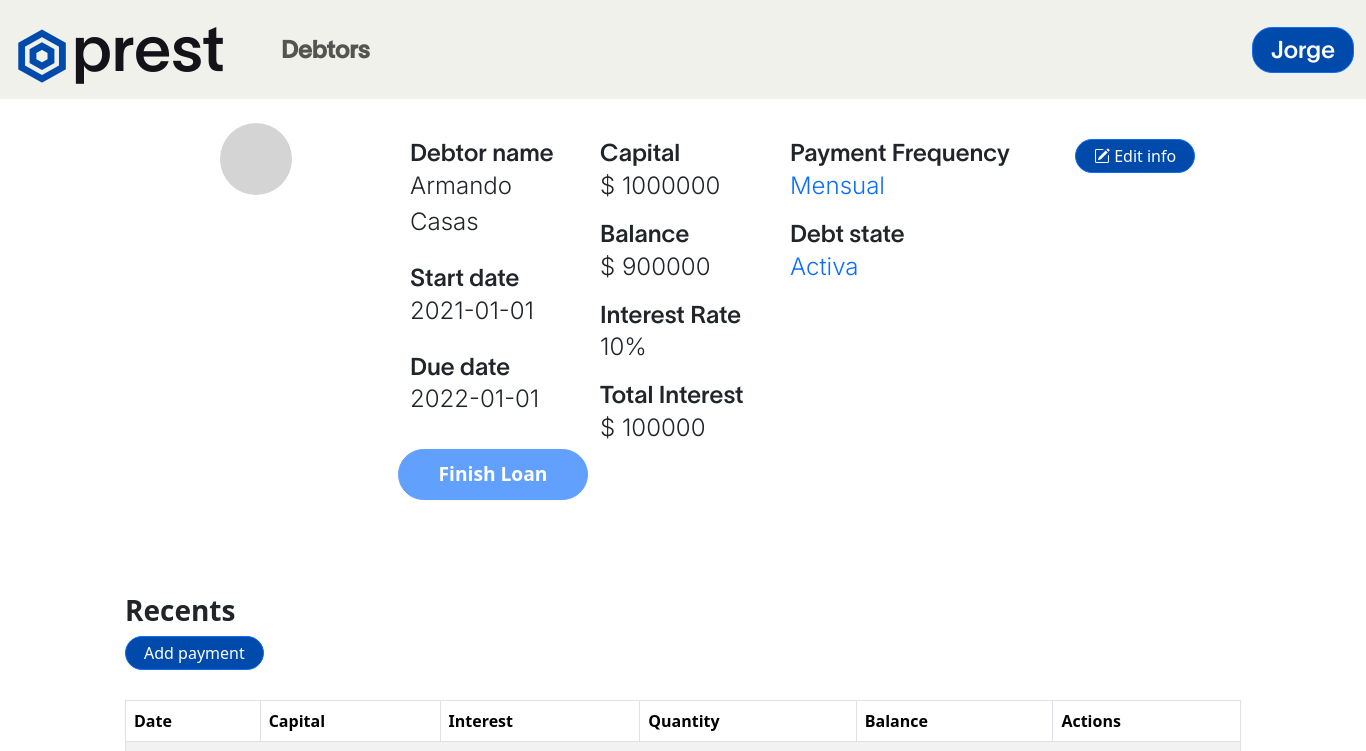
DeudorApp › Abrir y cerrar el modal para Editar Informacion
The image size is (1366, 751).
Click the button "Edit info": (1135, 156) [1075,139,1195,173]
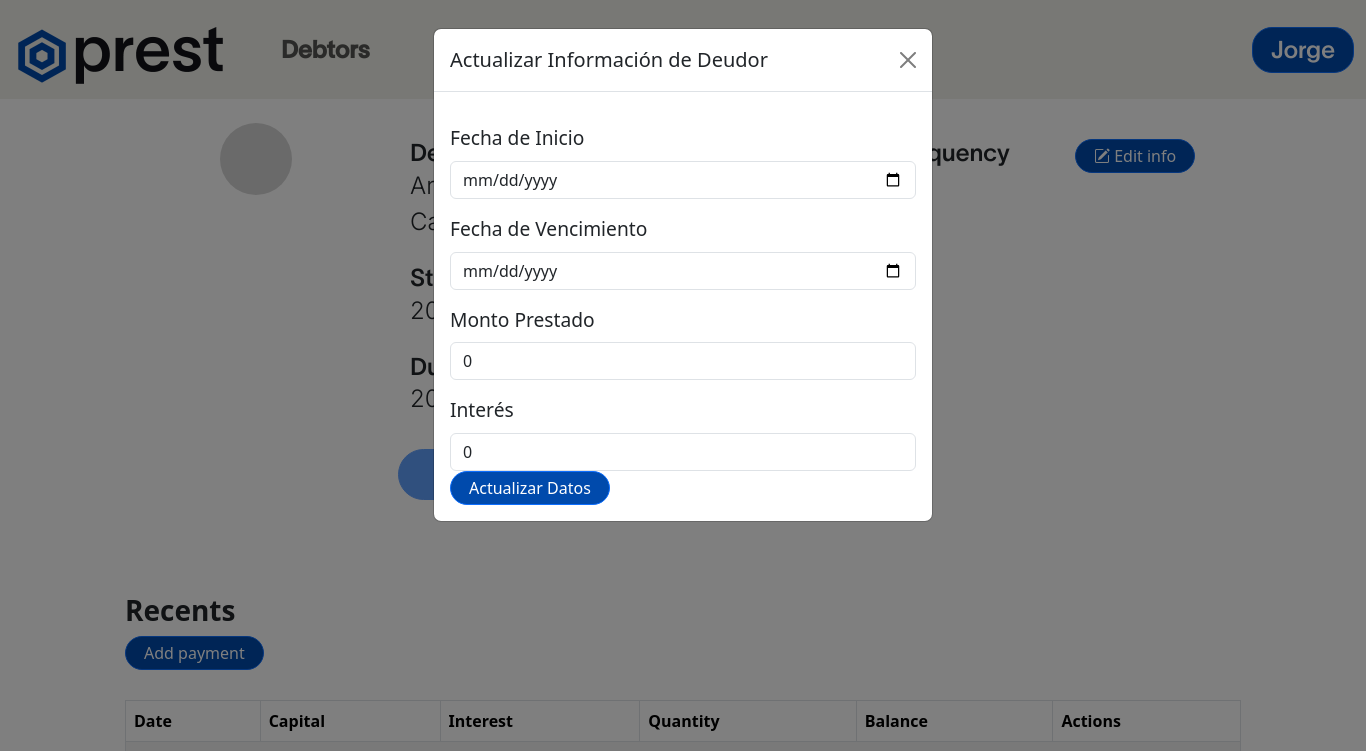
Expected: the button named "Close" is shown
Click the button named "Close": (908, 60) [892,44,924,76]
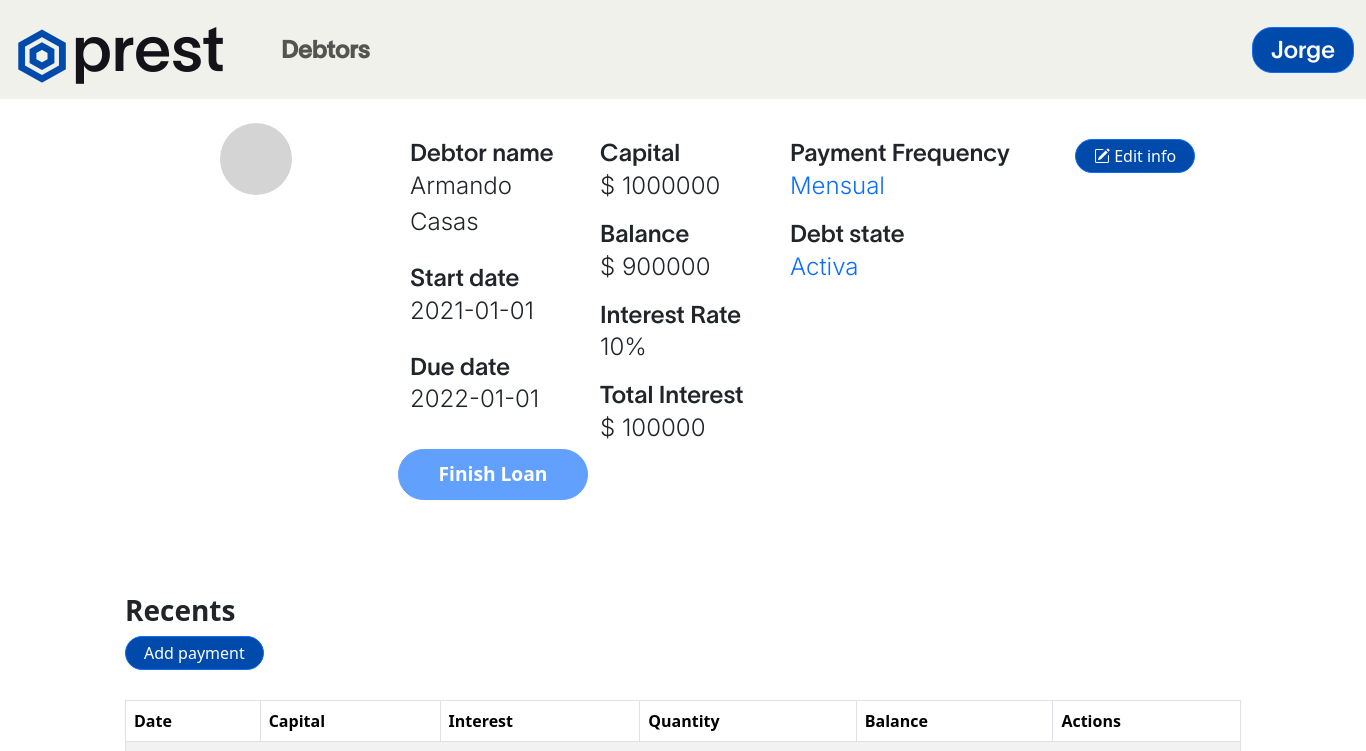
Expected: the button "Close" is gone
